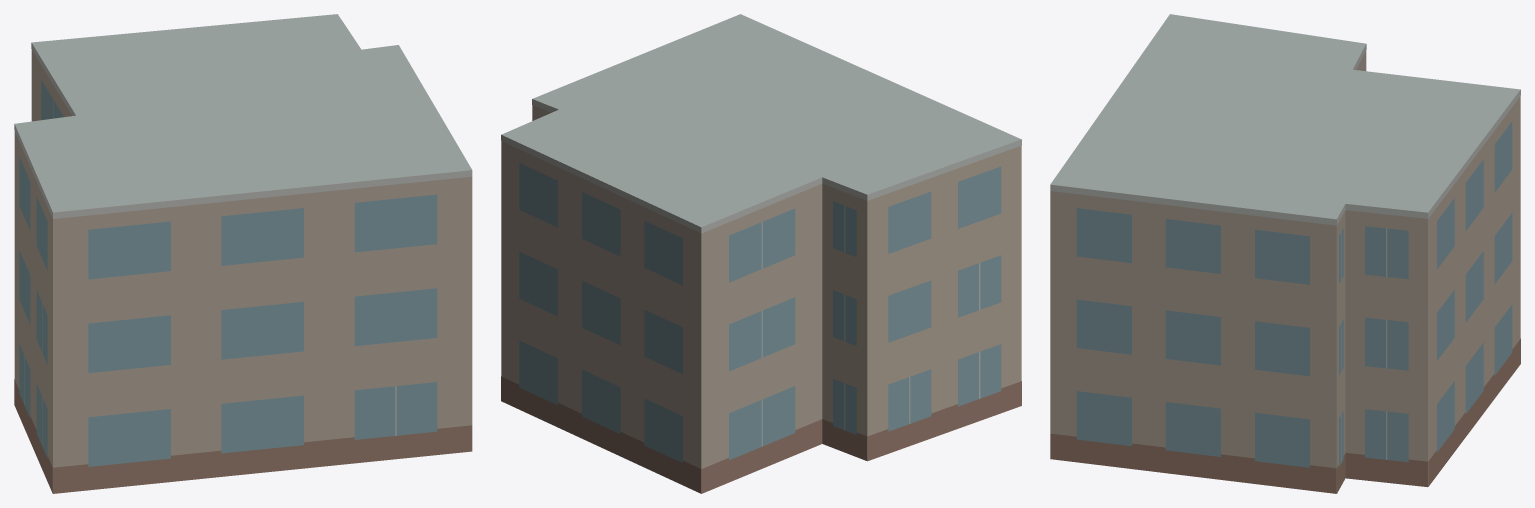
Rendered from survey-upis-32491816.glb.
3 renders of one model, left to right at view 1: azimuth 30°, elevation 25°; view 2: azimuth 150°, elevation 25°; view 3: azimuth 270°, elevation 25°, orthographic. The views are drawn at different scales.
Parts seen in each view (by area): view 1: survey-upis-32491816.tmp; view 2: survey-upis-32491816.tmp; view 3: survey-upis-32491816.tmp.
Part boxes in pixels (x1,y1,x2,y2): survey-upis-32491816.tmp: (14, 14, 472, 493); survey-upis-32491816.tmp: (501, 14, 1021, 493); survey-upis-32491816.tmp: (1050, 14, 1520, 493).
Size of the model in its own units: 17.02 by 10.6 by 16.48.
